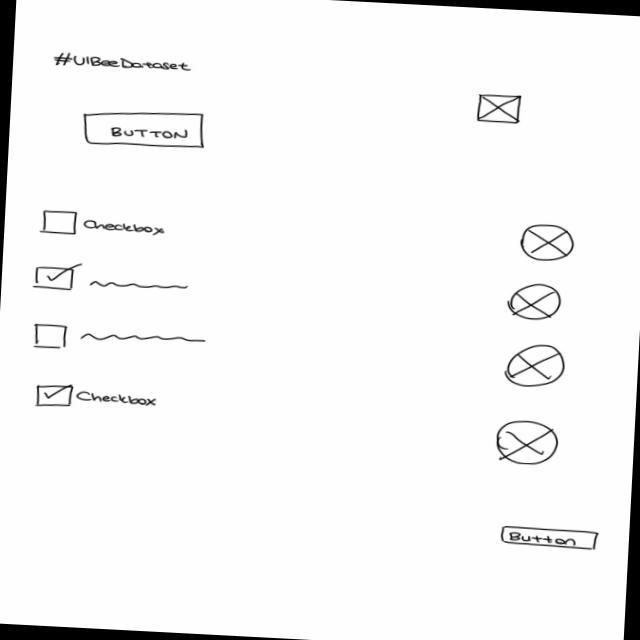button: (82, 108, 209, 153), (500, 525, 603, 553)
checkbox: (33, 323, 209, 360), (32, 261, 191, 300), (33, 383, 162, 417), (41, 209, 171, 242)
image: (495, 420, 562, 469), (503, 343, 569, 392), (518, 223, 577, 265), (508, 283, 564, 323), (477, 93, 524, 127)
label: (50, 50, 195, 78)
